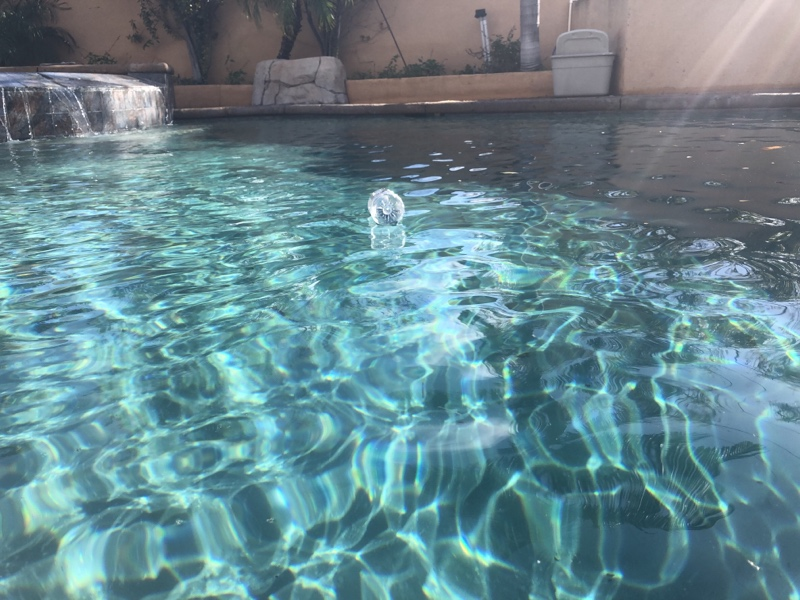Plastic Bottle: (365, 187, 408, 230)
